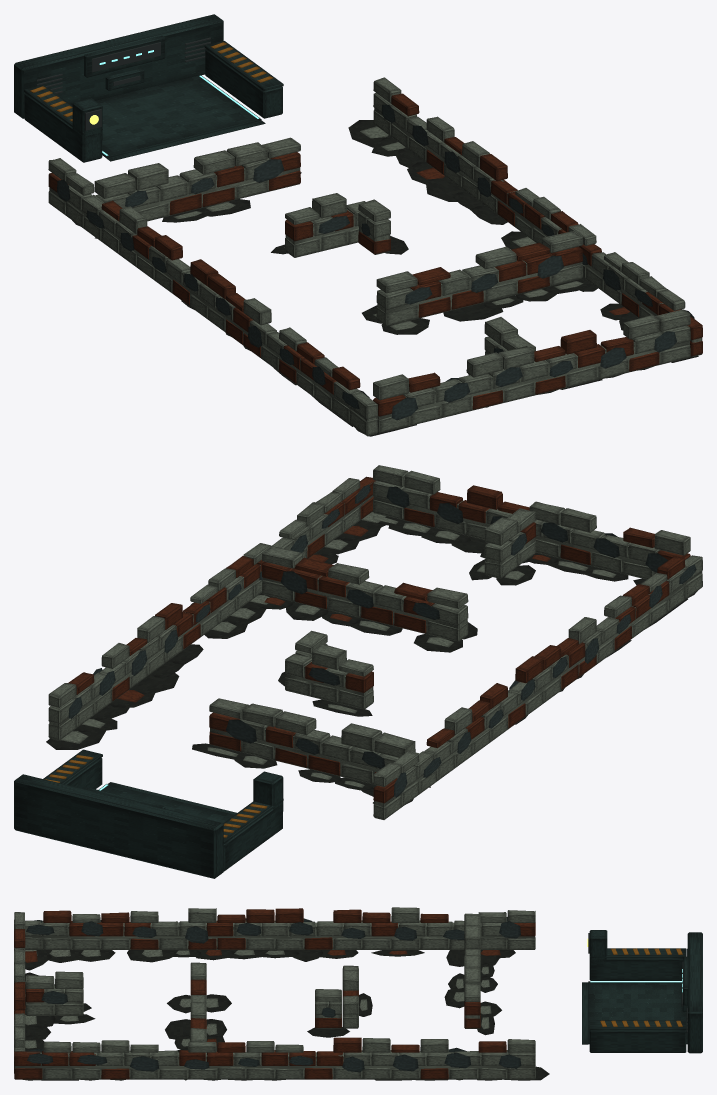
Rendered from ExcavationDepot_5x11.fbx.
3 renders of one model, top to bottom at view 1: azimuth 30°, elevation 25°; view 2: azimuth 150°, elevation 25°; view 3: azimuth 270°, elevation 25°, orthographic. The views are drawn at different scales.
Visible parts, largest first — view 1: THStage_ExtractionBay.015, THStage_WestBoundary.015, THStage_BackBoundary.015, THStage_EastBoundary.015, THStage_RearPartition.015, THStage_EntryPartition.015, THStage_RuinGroundFragments.004, THStage_CentralCrosswall.009, THStage_CentralReturn.009, THStage_RearRoomDivider.015; view 2: THStage_ExtractionBay.015, THStage_WestBoundary.015, THStage_EastBoundary.015, THStage_RuinGroundFragments.004, THStage_BackBoundary.015, THStage_RearPartition.015, THStage_EntryPartition.015, THStage_CentralCrosswall.009, THStage_RearRoomDivider.015; view 3: THStage_EastBoundary.015, THStage_WestBoundary.015, THStage_ExtractionBay.015, THStage_RuinGroundFragments.004, THStage_RearRoomDivider.015, THStage_EntryPartition.015, THStage_BackBoundary.015, THStage_RearPartition.015, THStage_CentralReturn.009, THStage_CentralCrosswall.009.
Boxes of the visible parts, x1,y1,x2,y2 form: THStage_ExtractionBay.015: (14,14,283,162); THStage_WestBoundary.015: (48,158,377,436); THStage_BackBoundary.015: (373,309,690,433); THStage_EastBoundary.015: (373,77,702,356); THStage_RearPartition.015: (376,231,582,326); THStage_EntryPartition.015: (94,137,300,221); THStage_RuinGroundFragments.004: (72,120,698,436); THStage_CentralCrosswall.009: (285,193,365,257); THStage_CentralReturn.009: (358,199,390,254); THStage_RearRoomDivider.015: (484,317,535,354); THStage_ExtractionBay.015: (14,749,283,878); THStage_WestBoundary.015: (373,555,702,819); THStage_EastBoundary.015: (48,476,375,740); THStage_RuinGroundFragments.004: (46,511,697,804); THStage_BackBoundary.015: (373,465,690,579); THStage_RearPartition.015: (262,546,468,641); THStage_EntryPartition.015: (209,698,415,784); THStage_CentralCrosswall.009: (285,644,373,709); THStage_RearRoomDivider.015: (484,508,536,578); THStage_EastBoundary.015: (14,1037,535,1079); THStage_WestBoundary.015: (25,907,535,949); THStage_ExtractionBay.015: (582,930,702,1053); THStage_RuinGroundFragments.004: (23,950,549,1080); THStage_RearRoomDivider.015: (25,971,83,1015); THStage_EntryPartition.015: (464,913,480,1028); THStage_BackBoundary.015: (14,912,25,1073); THStage_RearPartition.015: (190,962,206,1041); THStage_CentralReturn.009: (315,989,341,1028); THStage_CentralCrosswall.009: (342,965,358,1028).
Size of the model in its own units: 5 by 0.76 by 10.82.
Materials: 4 (1 with a texture image).
